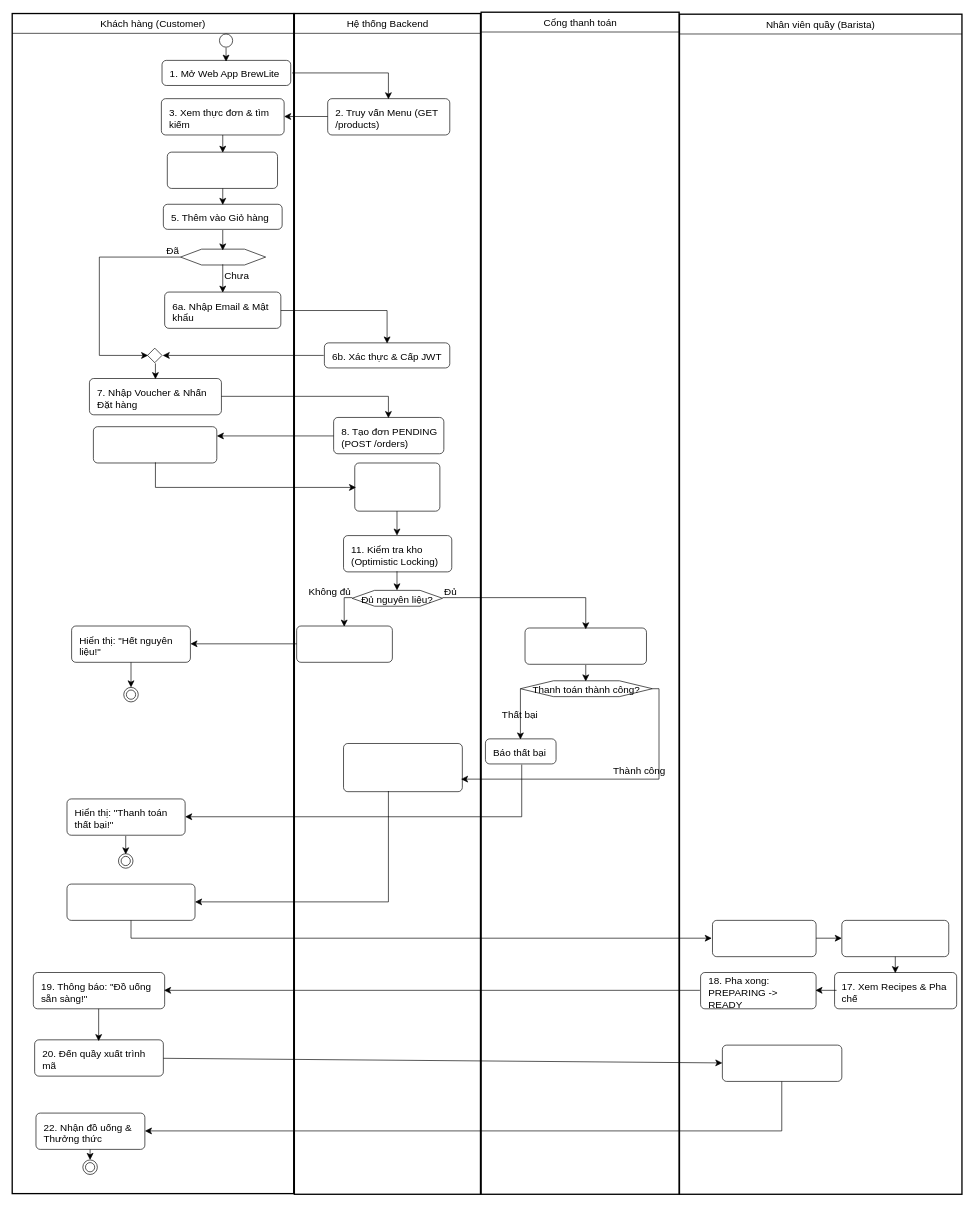
Some shapes in this 974 by 1206 pixel diagram are drawn without their labels. Here are the shapes that lost their labels. From the top down, the centre of each, then its label:
At (x=222, y=169): "4. Chọn món, Size & Topping".
At (x=223, y=256): "Đã đăng nhập?".
At (x=155, y=444): "9. Chọn phương thức & Nhấn Thanh toán".
At (x=397, y=486): "10. Nhận POST /payments (Idempotency)".
At (x=344, y=643): "Ném HTTP 409 & Rollback".
At (x=585, y=645): "12. Xử lý giao dịch trừ tiền".
At (x=402, y=767): "13. ACID Transaction: PENDING -> PAID, Trừ kho".
At (x=130, y=901): "14. Màn hình Đặt thành công & Mã đơn".
At (x=764, y=938): "15. Nhận đơn PAID (Kanban FIFO)".
At (x=895, y=938): "16. Bấm Tiếp nhận: PAID -> PREPARING".
At (x=782, y=1062): "21. Đối chiếu mã, giao nước".
